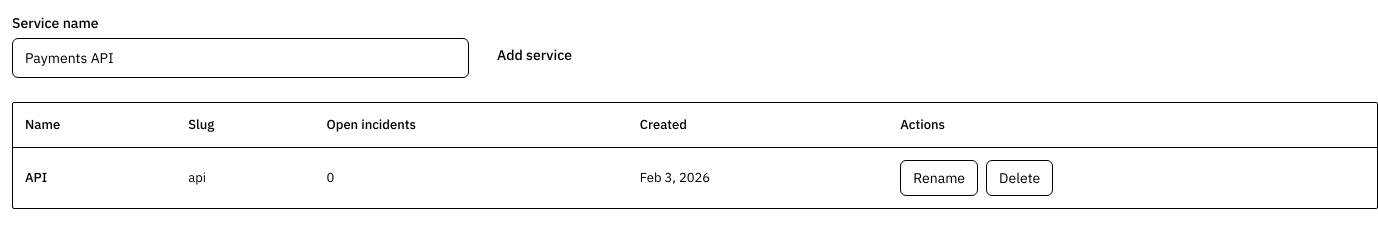
Scenario: adding › shows a duplicate name inline instead of a toast
In the field labelled "Service name": (240, 58) top-left (12, 38), bottom-right (469, 78), type "api"
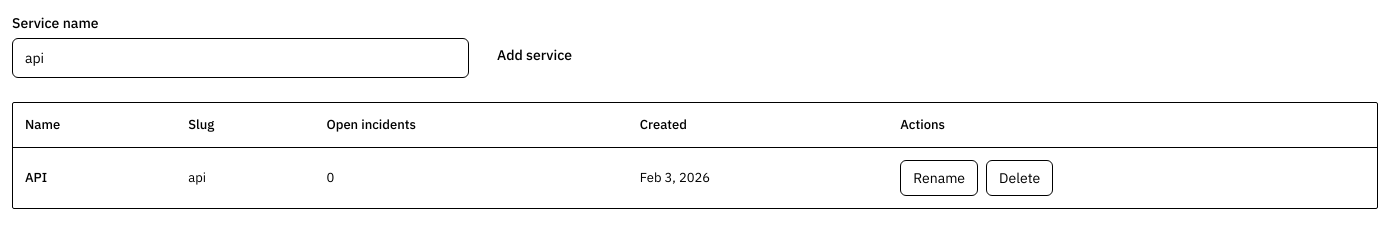
Click the button "Add service": (534, 55) top-left (481, 36), bottom-right (588, 74)
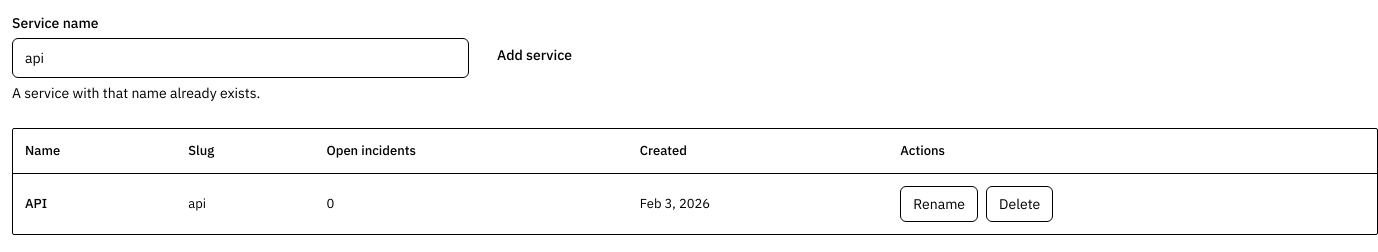
Expected: the text "A service with that name already exists." is shown, top-left (12, 84), bottom-right (260, 102)
